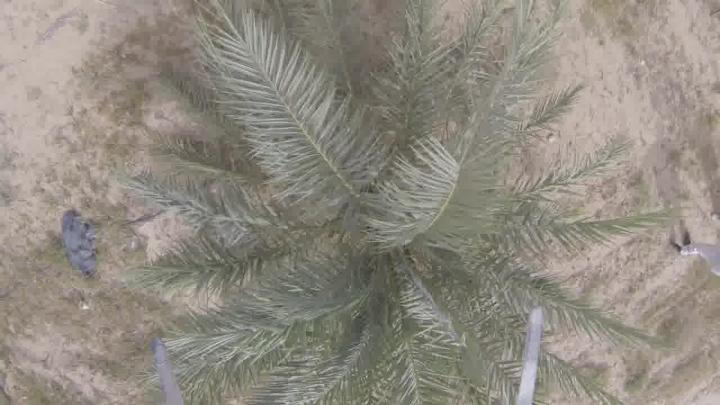Date-Palm-Crown: (243, 92, 503, 404)
